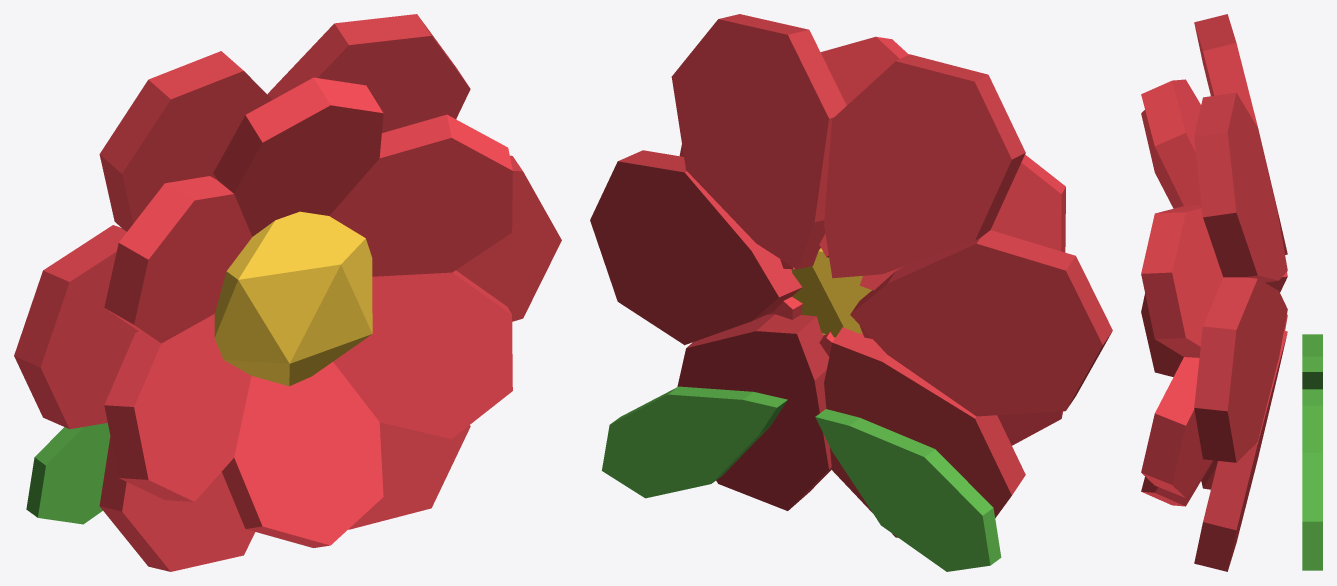
File: flower_red.glb
The picture shows the model from 3 angles, left to right: view 1: azimuth 30°, elevation 25°; view 2: azimuth 150°, elevation 25°; view 3: azimuth 270°, elevation 25°; orthographic projection. The views are drawn at different scales.
Visible parts, largest first — view 1: Petal; view 2: Petal; view 3: Petal.
Boxes of the visible parts, left/top/right/bottom form: Petal: left=14, top=14, right=561, bottom=571; Petal: left=590, top=14, right=1112, bottom=571; Petal: left=1141, top=14, right=1322, bottom=571.
Size of the model in its own units: 0.8107 by 0.7196 by 0.2632.
